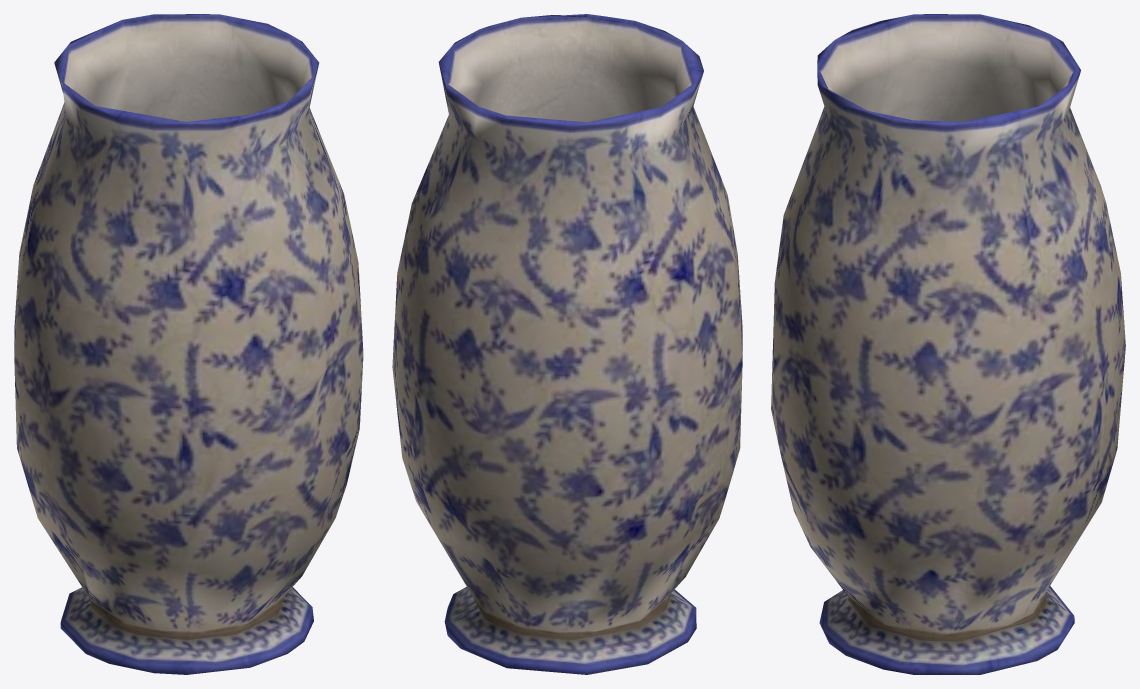
File: antique_ceramic_vase_01.glb
3 views of the same model, side by side, from view 1: azimuth 30°, elevation 25°; view 2: azimuth 150°, elevation 25°; view 3: azimuth 270°, elevation 25° (orthographic).
Visible parts, largest first — view 1: antique_ceramic_vase_01; view 2: antique_ceramic_vase_01; view 3: antique_ceramic_vase_01.
Boxes of the visible parts, x1,y1,x2,y2 form: antique_ceramic_vase_01: (14,14,363,674); antique_ceramic_vase_01: (392,14,742,674); antique_ceramic_vase_01: (771,14,1125,674).
Bounding box in the file's own units: 0.2491 × 0.4396 × 0.2531.
Materials: 1 (1 with a texture image).
